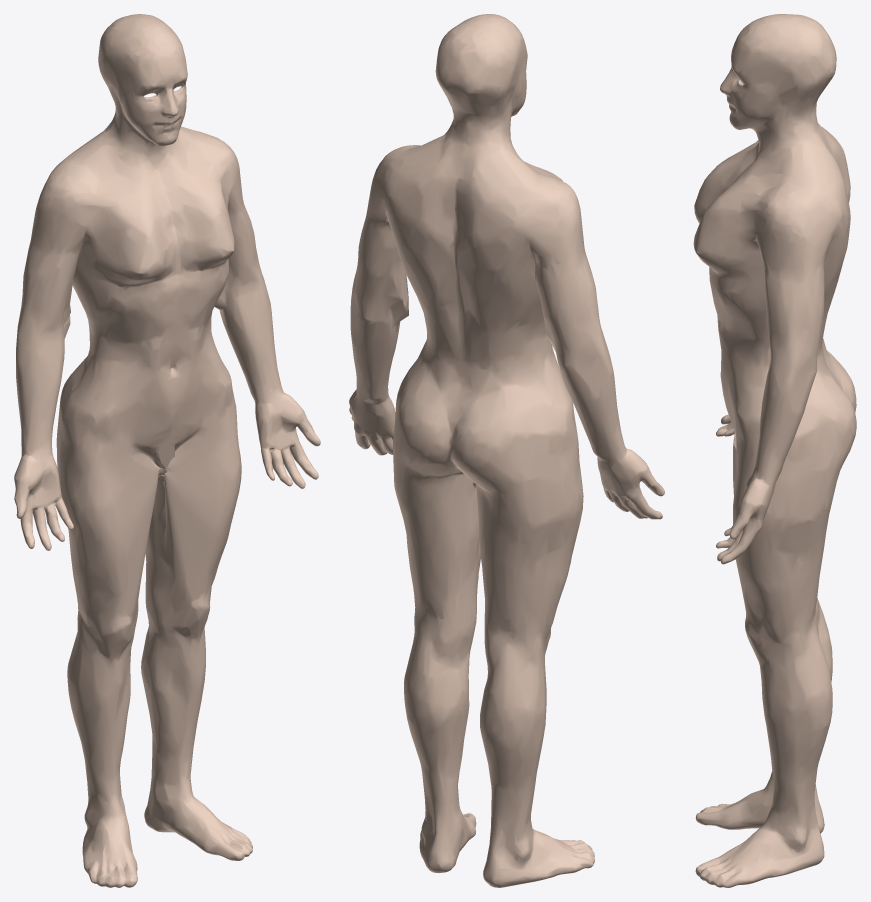
Rendered from body-female.glb.
3 renders of one model, left to right at view 1: azimuth 30°, elevation 25°; view 2: azimuth 150°, elevation 25°; view 3: azimuth 270°, elevation 25°, orthographic. The views are drawn at different scales.
Visible parts, largest first — view 1: Body; view 2: Body; view 3: Body.
Boxes of the visible parts, x1,y1,x2,y2 form: Body: [14, 14, 320, 887]; Body: [349, 14, 664, 887]; Body: [693, 14, 856, 887].
Bounding box in the file's own units: 0.6301 × 1.64 × 0.2904.
